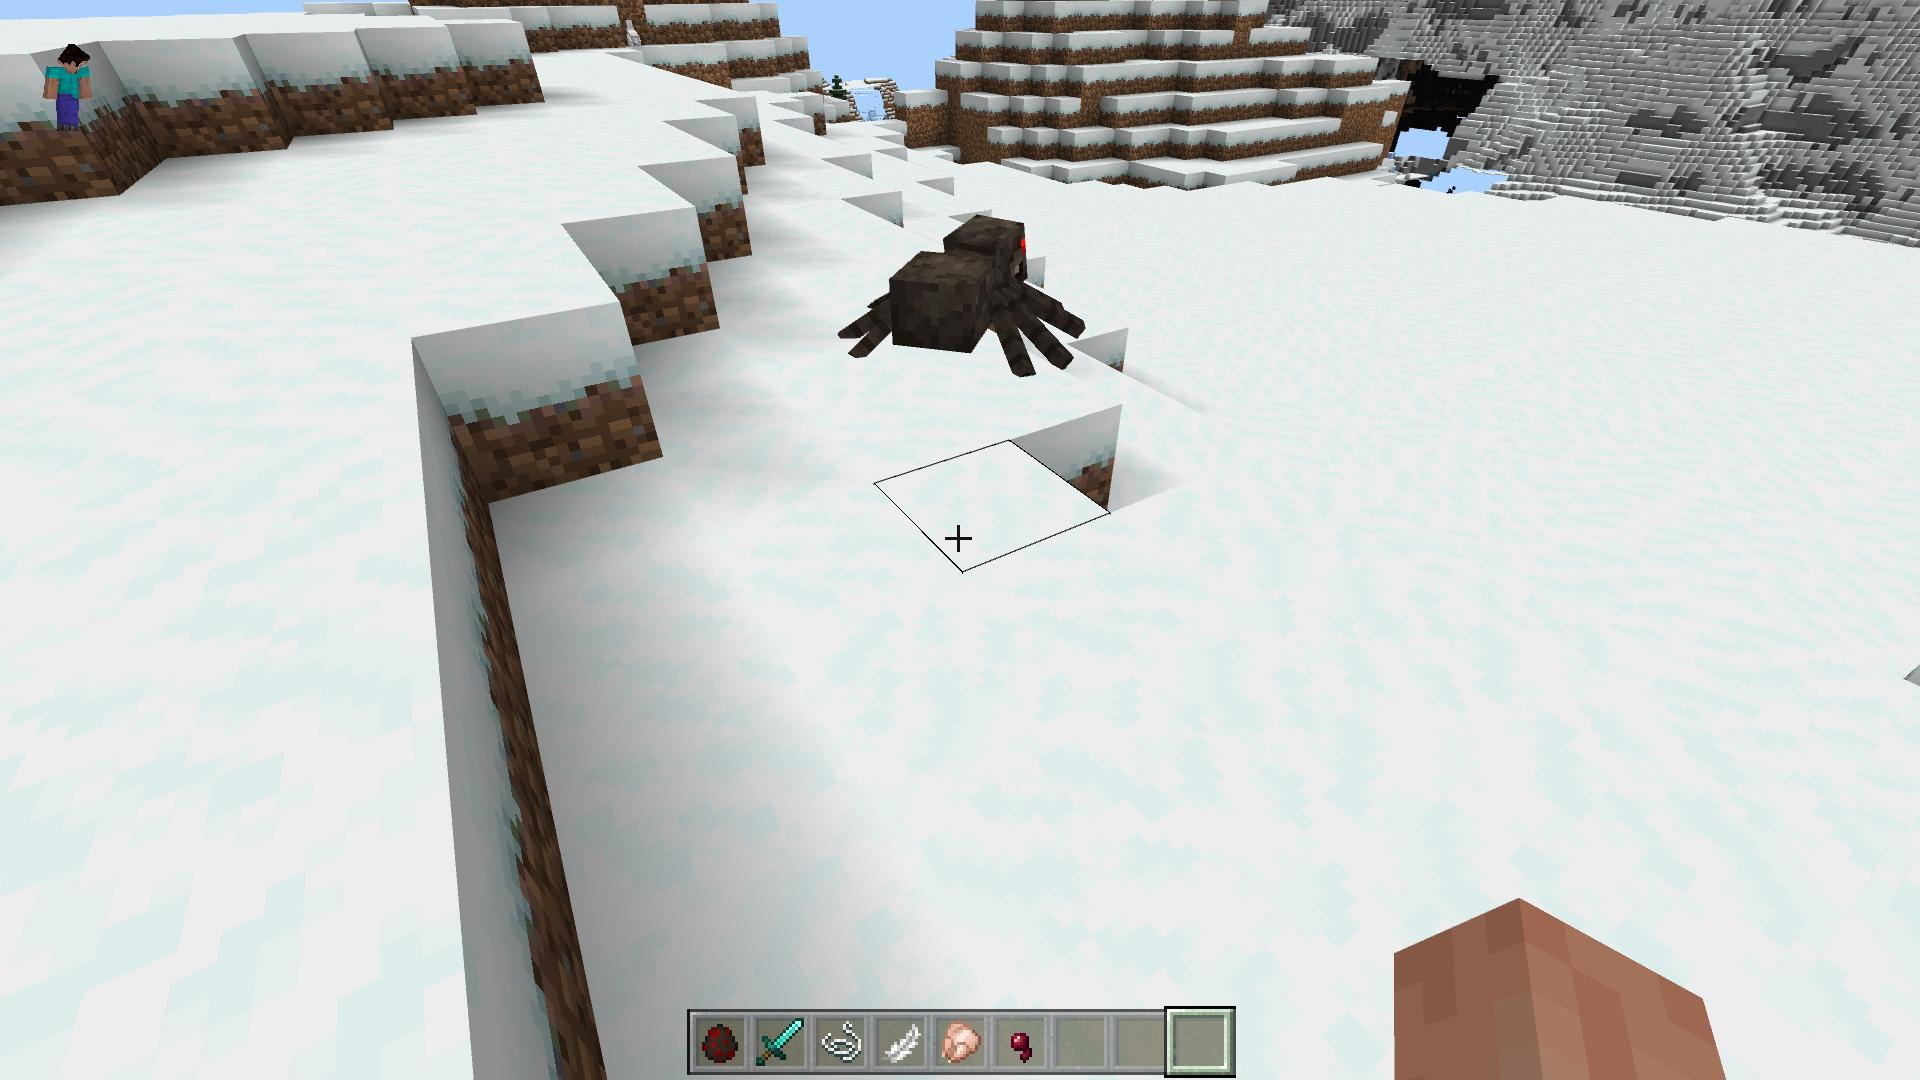spider: (837, 211, 1085, 377)
